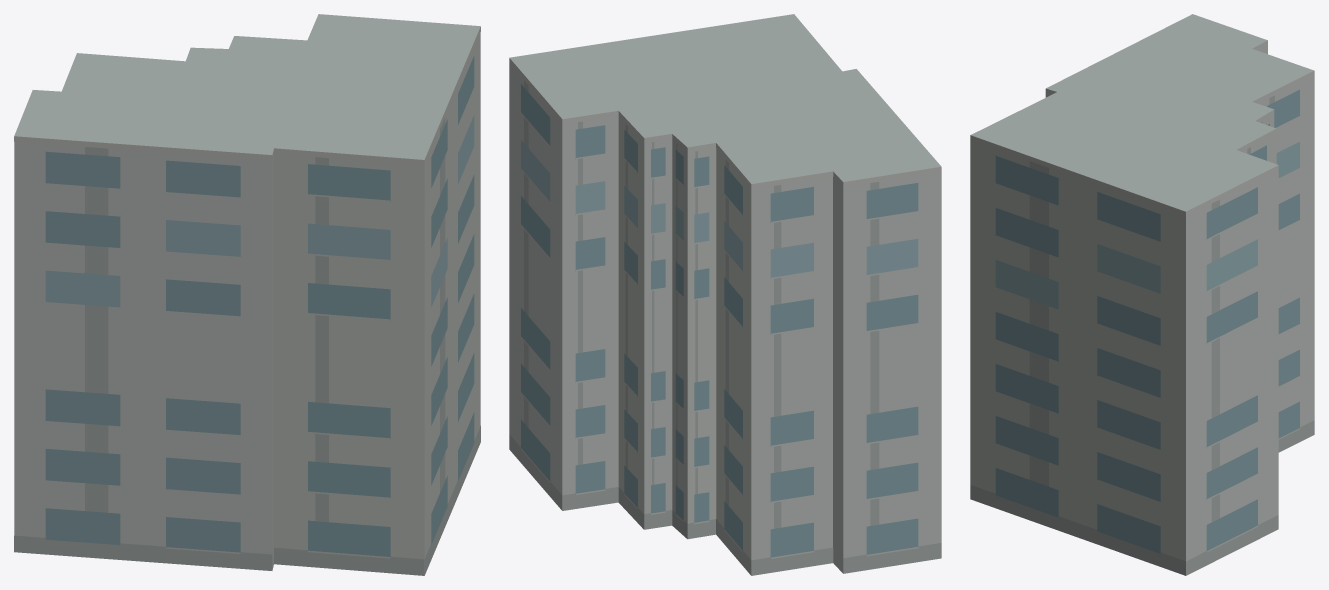
File: survey-upis-32684140.glb
3 views of the same model, side by side, from view 1: azimuth 30°, elevation 25°; view 2: azimuth 150°, elevation 25°; view 3: azimuth 270°, elevation 25° (orthographic). The views are drawn at different scales.
Parts seen in each view (by area): view 1: survey-upis-32684140.tmp; view 2: survey-upis-32684140.tmp; view 3: survey-upis-32684140.tmp.
Boxes of the visible parts, x1,y1,x2,y2 form: survey-upis-32684140.tmp: (14,14,480,575); survey-upis-32684140.tmp: (509,14,941,575); survey-upis-32684140.tmp: (970,14,1314,575).
Bounding box in the file's own units: 21.2 × 18.2 × 15.59.
